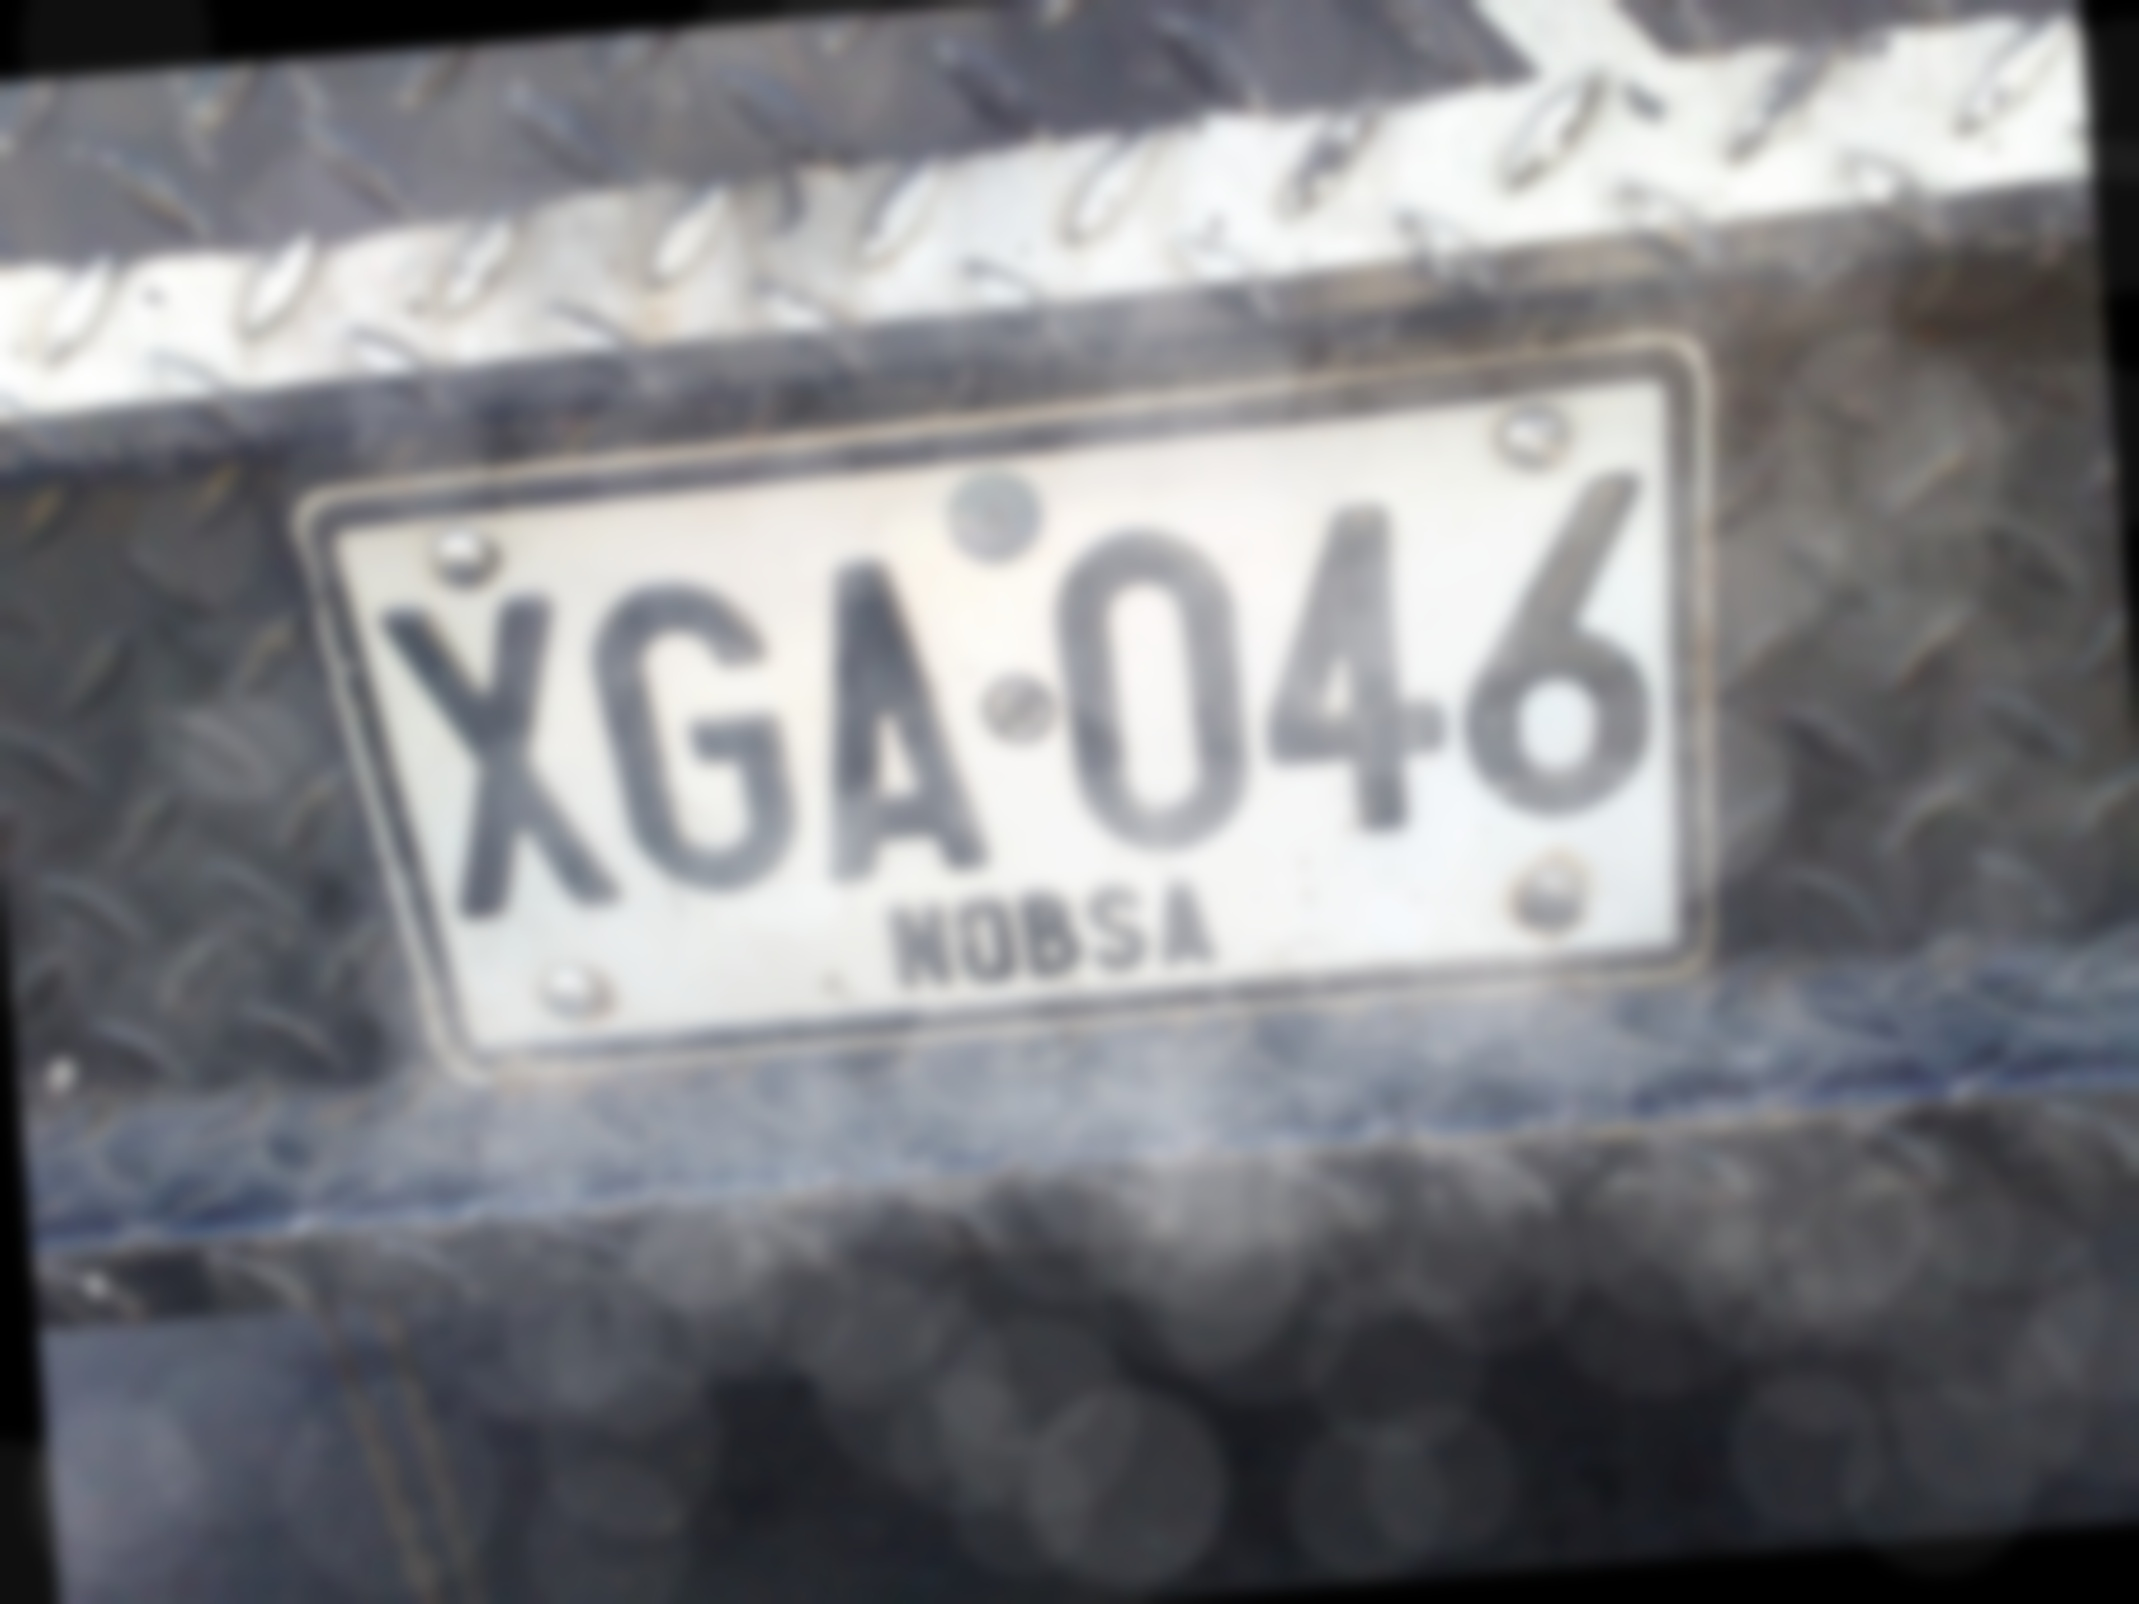placas: (284, 317, 1763, 1107)
